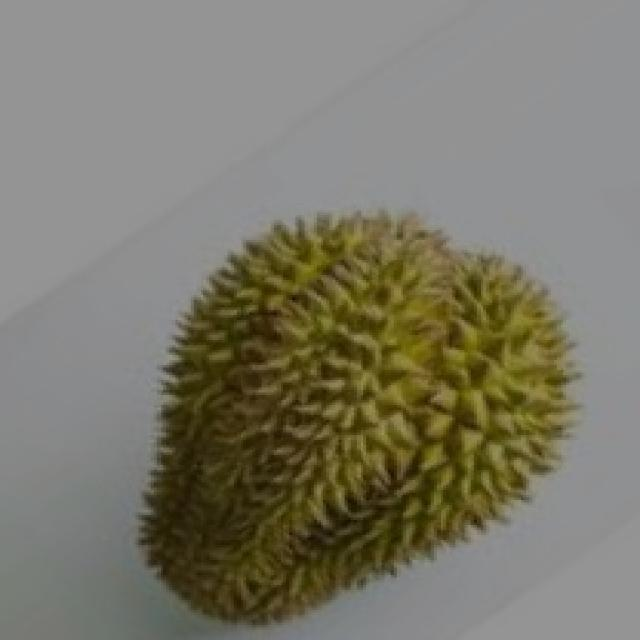fruit: (261, 220, 634, 630)
